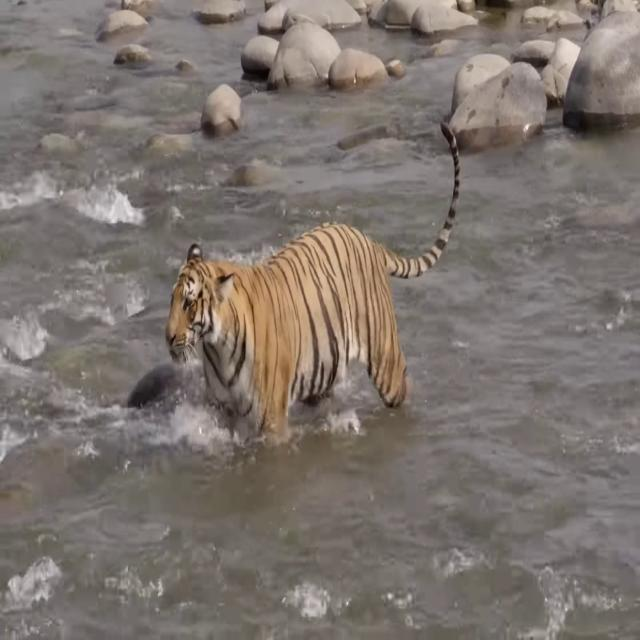tiger: (165, 120, 461, 442)
